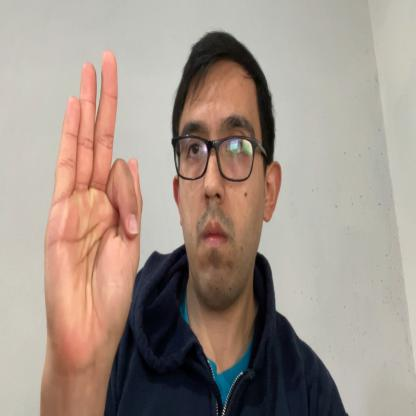F: (43, 50, 143, 362)
